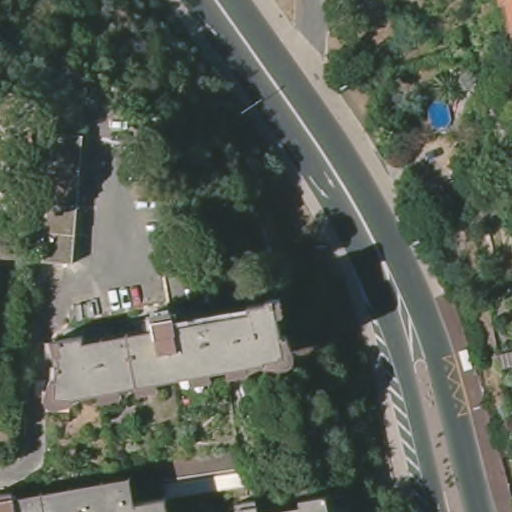pool: (428, 100, 455, 132)
